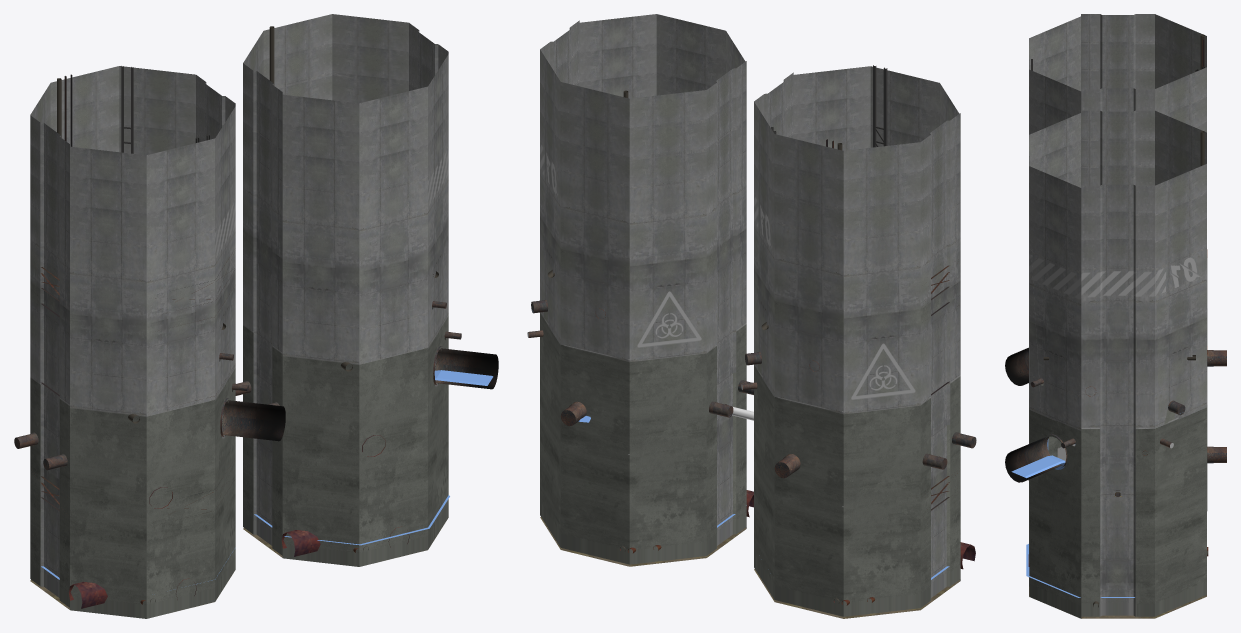
3 views of the same model, side by side, from view 1: azimuth 30°, elevation 25°; view 2: azimuth 150°, elevation 25°; view 3: azimuth 270°, elevation 25° (orthographic). The views are drawn at different scales.
Visible parts, largest first — view 1: 2S_P_Wall (×2), 2S_P_Wall002, 2S_P_Wall004, 2S_P_Wall001, 2S_P_Wall003, 2S_P_WallPipe (×2), 2S_P_WallPipe002, 2S_P_Pipe, 2S_P_Pipe004; view 2: 2S_P_Wall (×2), 2S_P_Wall003, 2S_P_Wall004, 2S_P_Wall001, 2S_P_Wall002, 2S_P_WallPipe, 2S_P_Ladder, 2S_P_WallPipe001, 2S_P_Floor001, 2S_P_Floor; view 3: 2S_P_Wall003, 2S_P_Wall002, 2S_P_Wall004, 2S_P_Wall001, 2S_P_Wall (×2), 2S_P_WallPipe002, 2S_P_WallPipe, 2S_Water003, 2S_P_WallPipe001, 2S_P_Floor001.
Part boxes in pixels (x1,y1,x2,y2): 2S_P_Wall (×2): (30, 124, 235, 618); 2S_P_Wall002: (282, 112, 448, 566); 2S_P_Wall004: (243, 14, 448, 161); 2S_P_Wall001: (30, 66, 235, 213); 2S_P_Wall003: (243, 72, 445, 555); 2S_P_WallPipe (×2): (14, 353, 285, 470); 2S_P_WallPipe002: (433, 346, 498, 389); 2S_P_Pipe: (68, 487, 196, 608); 2S_P_Pipe004: (281, 435, 409, 556); 2S_P_Wall (×2): (754, 124, 960, 616); 2S_P_Wall003: (540, 82, 746, 564); 2S_P_Wall004: (540, 14, 746, 160); 2S_P_Wall001: (754, 66, 960, 212); 2S_P_Wall002: (579, 72, 746, 528); 2S_P_WallPipe: (741, 352, 976, 469); 2S_P_Ladder: (873, 65, 887, 147); 2S_P_WallPipe001: (527, 300, 753, 417); 2S_P_Floor001: (540, 517, 746, 566); 2S_P_Floor: (754, 569, 959, 618); 2S_P_Wall003: (1081, 164, 1207, 616); 2S_P_Wall002: (1029, 167, 1081, 618); 2S_P_Wall004: (1029, 110, 1206, 242); 2S_P_Wall001: (1029, 14, 1206, 128); 2S_P_Wall (×2): (1029, 68, 1207, 345); 2S_P_WallPipe002: (1005, 434, 1226, 482); 2S_P_WallPipe: (1005, 347, 1226, 385); 2S_Water003: (1011, 455, 1065, 478); 2S_P_WallPipe001: (1030, 378, 1185, 448); 2S_P_Floor001: (1029, 587, 1206, 618).
Size of the model in its own units: 693 by 745 by 342.
